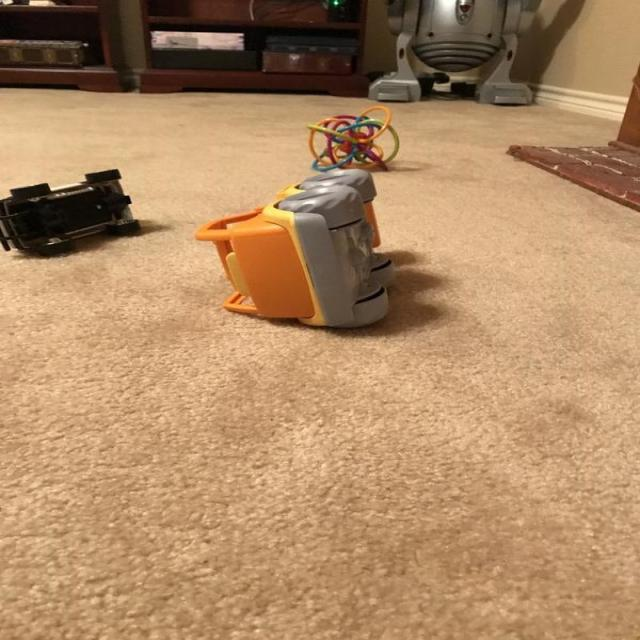toy: (190, 164, 416, 329), (2, 167, 142, 261), (306, 100, 410, 168)
